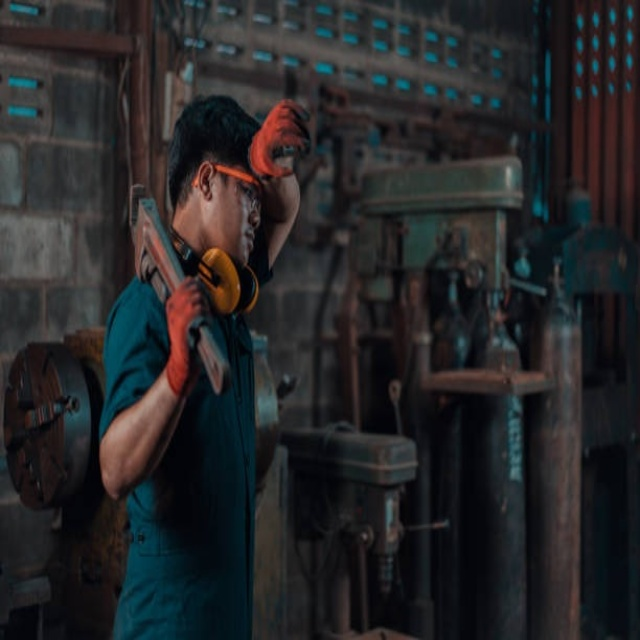Gafas: (195, 158, 260, 207)
Guantes: (164, 275, 213, 396), (249, 99, 312, 180)
Sin_mascara: (233, 224, 258, 261)
